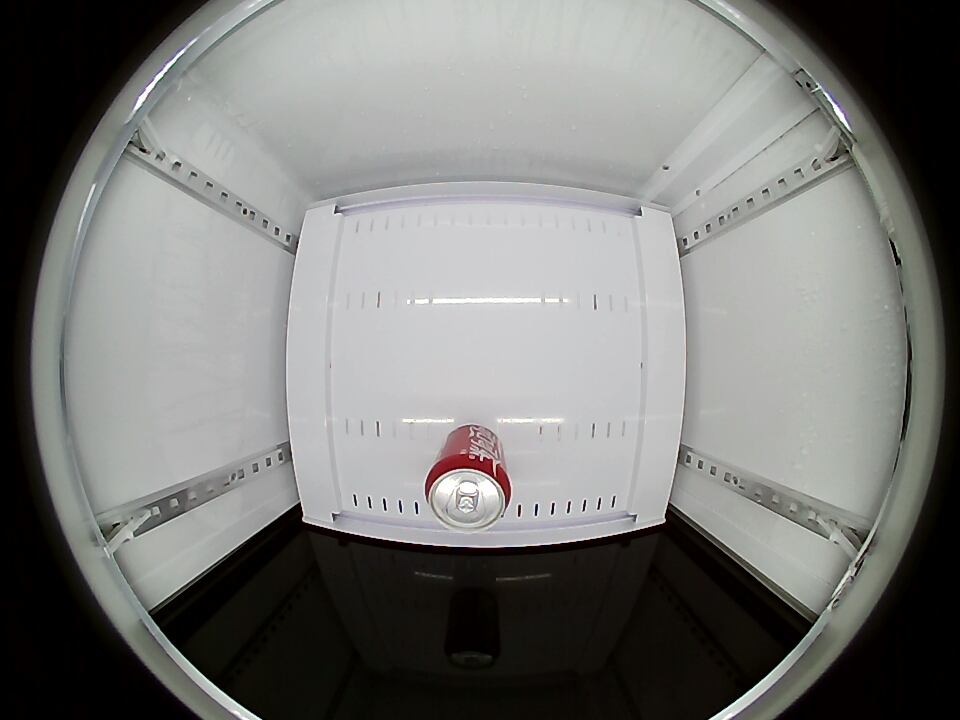kele: (424, 449, 513, 531)
